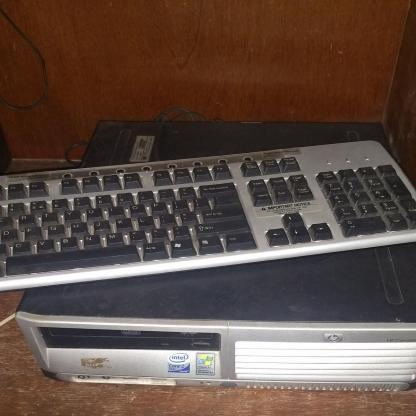mouse: (0, 165, 416, 252)
